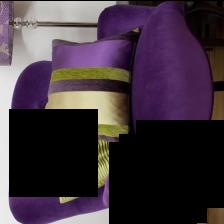purple: (9, 0, 224, 224)
